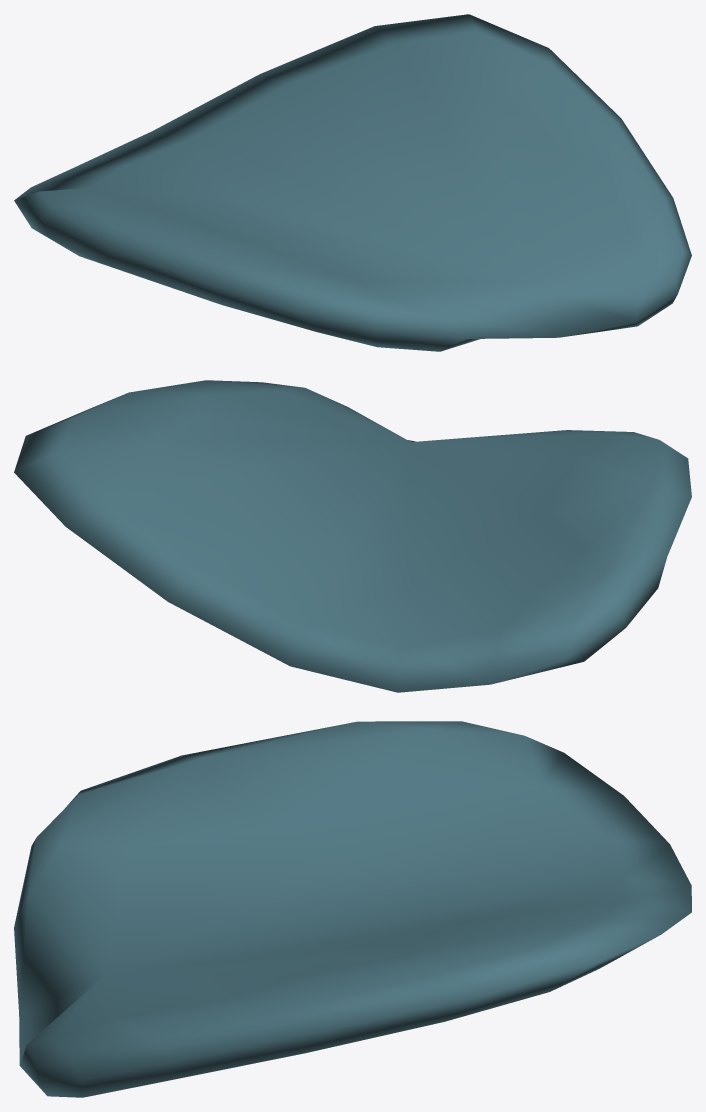
Rendered from Long_plantar_ligament_3rd_metatarsal_base_left.glb.
The picture shows the model from 3 angles, top to bottom: view 1: azimuth 30°, elevation 25°; view 2: azimuth 150°, elevation 25°; view 3: azimuth 270°, elevation 25°; orthographic projection. The views are drawn at different scales.
Parts seen in each view (by area): view 1: Long_plantar_ligament_on_3rd_metatarsal_base.l_Generated_Mes; view 2: Long_plantar_ligament_on_3rd_metatarsal_base.l_Generated_Mes; view 3: Long_plantar_ligament_on_3rd_metatarsal_base.l_Generated_Mes.
Part boxes in pixels (x1,y1,x2,y2): Long_plantar_ligament_on_3rd_metatarsal_base.l_Generated_Mes: (14,14,691,351); Long_plantar_ligament_on_3rd_metatarsal_base.l_Generated_Mes: (14,380,691,692); Long_plantar_ligament_on_3rd_metatarsal_base.l_Generated_Mes: (14,721,691,1097).
Size of the model in its own units: 0.00508 by 0.00127 by 0.00462.
